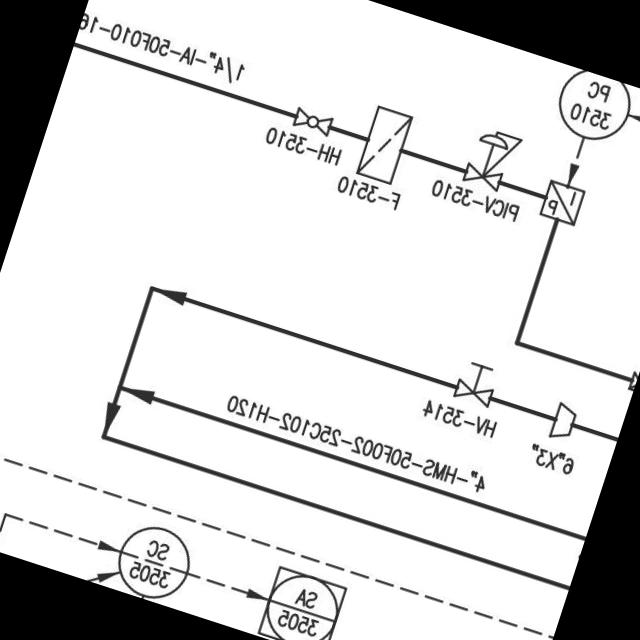BV2: (288, 100, 338, 138)
EPA: (532, 172, 594, 232)
F2: (347, 98, 418, 192)
HV: (446, 352, 506, 412)
PCV: (454, 118, 529, 198)
SP: (544, 396, 583, 444)
